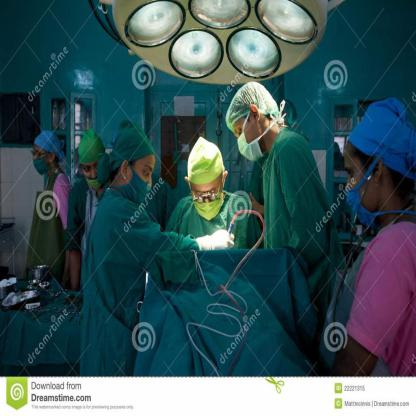face: (345, 144, 376, 227), (229, 116, 264, 161), (127, 155, 156, 205), (195, 171, 224, 221), (82, 155, 106, 189), (33, 143, 51, 174)
